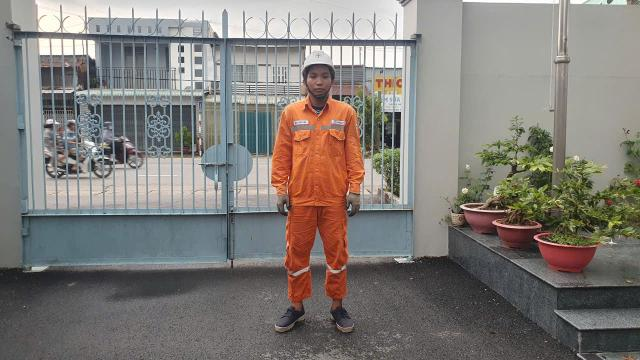gloves: (268, 191, 297, 221), (339, 192, 365, 220)
helmet: (296, 51, 343, 79)
shoes: (271, 301, 312, 337), (327, 300, 355, 342)
